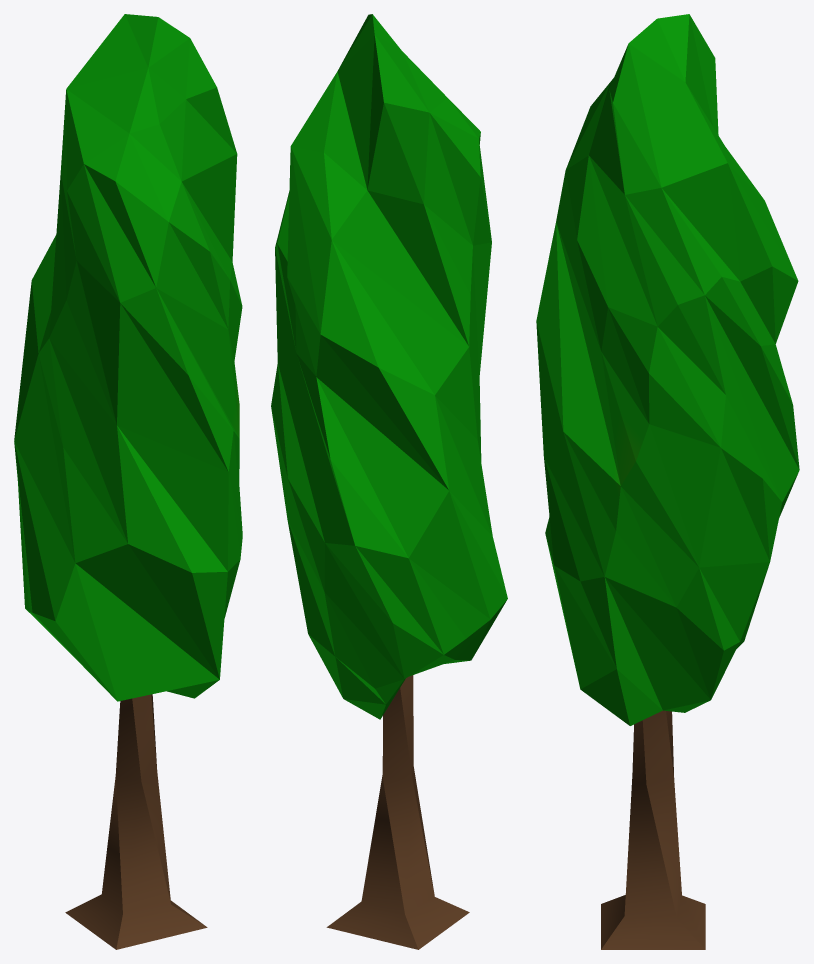
File: Tree2.FBX
3 renders of one model, left to right at view 1: azimuth 30°, elevation 25°; view 2: azimuth 150°, elevation 25°; view 3: azimuth 270°, elevation 25°, orthographic. The views are drawn at different scales.
Visible parts, largest first — view 1: Tree2; view 2: Tree2; view 3: Tree2.
Part boxes in pixels (box(x1,y1,x2,y2)): Tree2: box(14, 14, 242, 949); Tree2: box(271, 14, 507, 949); Tree2: box(536, 14, 799, 949).
Size of the model in its own units: 68.08 by 289 by 74.9.
Materials: 1 (1 with a texture image).
